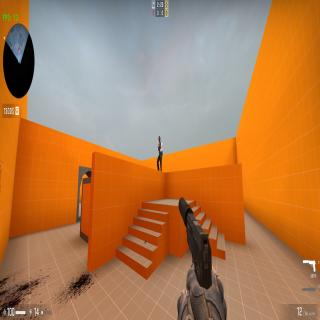T-Body: (156, 136, 163, 172)
T-Head: (158, 136, 160, 143)
